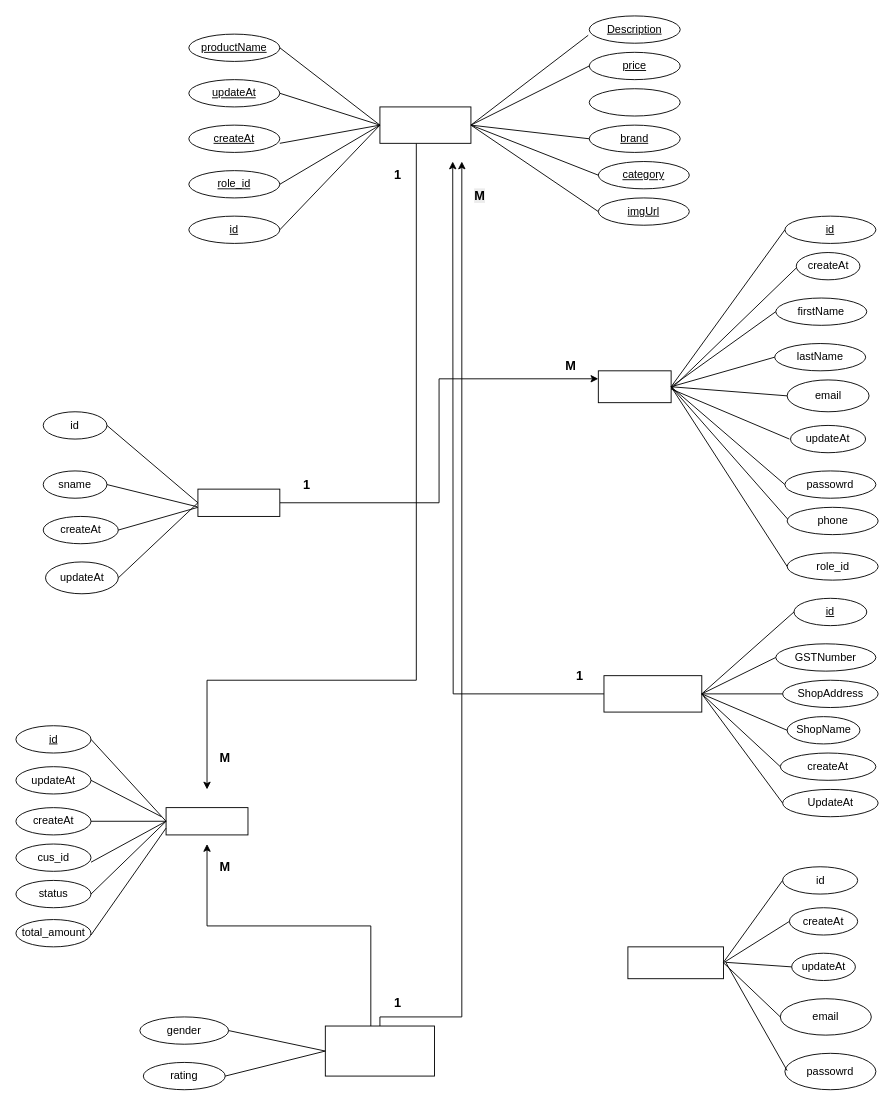
Image size: 895x1106. Some labels were removed from this diagram. Each missing label, with the centre of its shape:
"Admin" goes at (x=675, y=962).
"Customer(extends User)" goes at (x=379, y=1050).
"order" goes at (x=206, y=821).
"Product" goes at (x=425, y=124).
"Roles" goes at (x=238, y=502).
"Seller(extends User)" goes at (x=652, y=693).
"stack" goes at (x=634, y=102).
"User" goes at (x=634, y=386).
